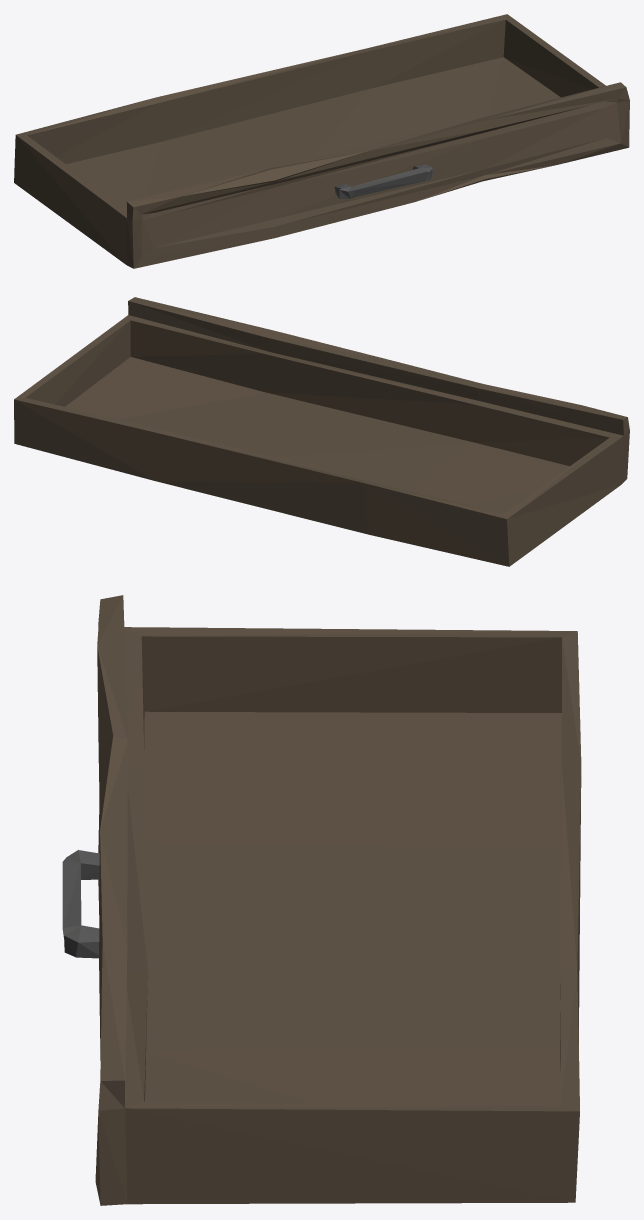
Rendered from SFHW_Shelving_010_Cabinet_002.fbx.
3 views of the same model, one above another, from view 1: azimuth 30°, elevation 25°; view 2: azimuth 150°, elevation 25°; view 3: azimuth 270°, elevation 25° (orthographic). The views are drawn at different scales.
Visible parts, largest first — view 1: SFHW_Shelving_010_Cabinet_002; view 2: SFHW_Shelving_010_Cabinet_002; view 3: SFHW_Shelving_010_Cabinet_002.
Boxes of the visible parts, x1=… form: SFHW_Shelving_010_Cabinet_002: x1=14, y1=14, x2=629, y2=268; SFHW_Shelving_010_Cabinet_002: x1=14, y1=297, x2=629, y2=566; SFHW_Shelving_010_Cabinet_002: x1=62, y1=595, x2=581, y2=1205.
Size of the model in its own units: 77.65 by 9.91 by 35.06.
